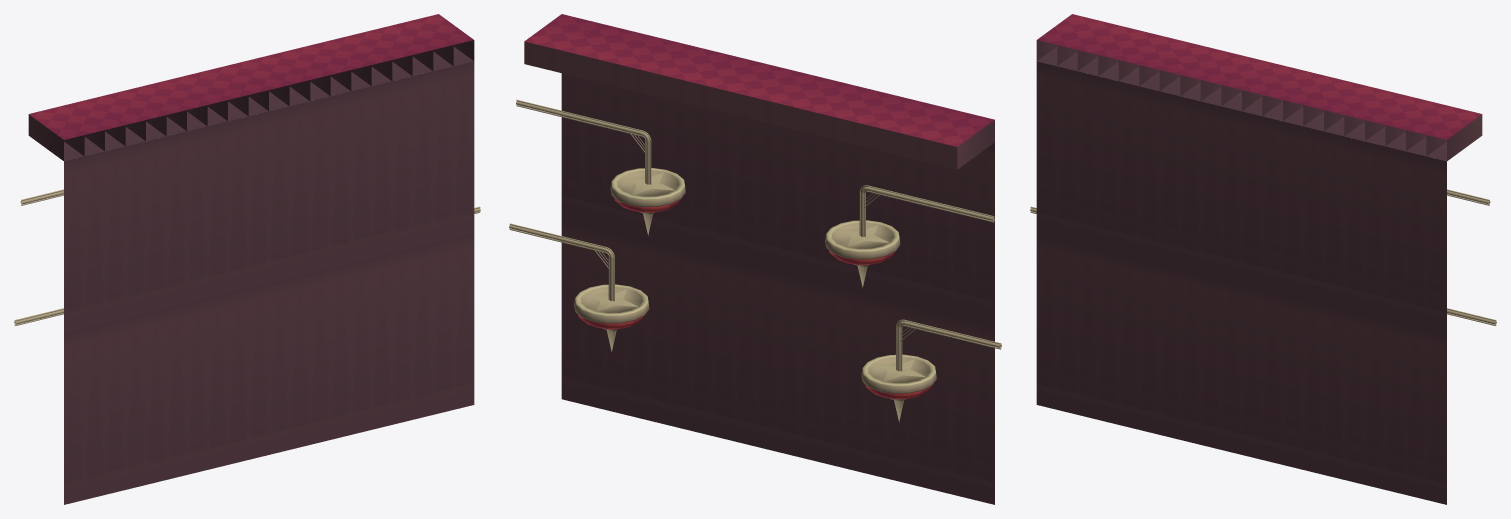
The model's file is SM_GamesRoom.fbx.
The picture shows the model from 3 angles, left to right: view 1: azimuth 30°, elevation 25°; view 2: azimuth 150°, elevation 25°; view 3: azimuth 330°, elevation 25°; orthographic projection. The views are drawn at different scales.
Visible parts, largest first — view 1: SM_BackgroundPlane.001; view 2: SM_BackgroundPlane.001; view 3: SM_BackgroundPlane.001.
Boxes of the visible parts, x1,y1,x2,y2 form: SM_BackgroundPlane.001: [14, 14, 480, 504]; SM_BackgroundPlane.001: [509, 14, 1001, 504]; SM_BackgroundPlane.001: [1030, 14, 1496, 504].
Size of the model in its own units: 335 by 2268 by 1700.
